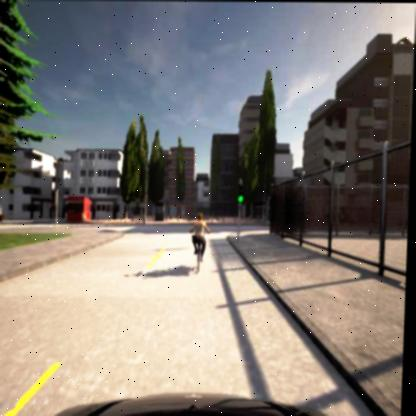bike: (188, 214, 213, 273)
